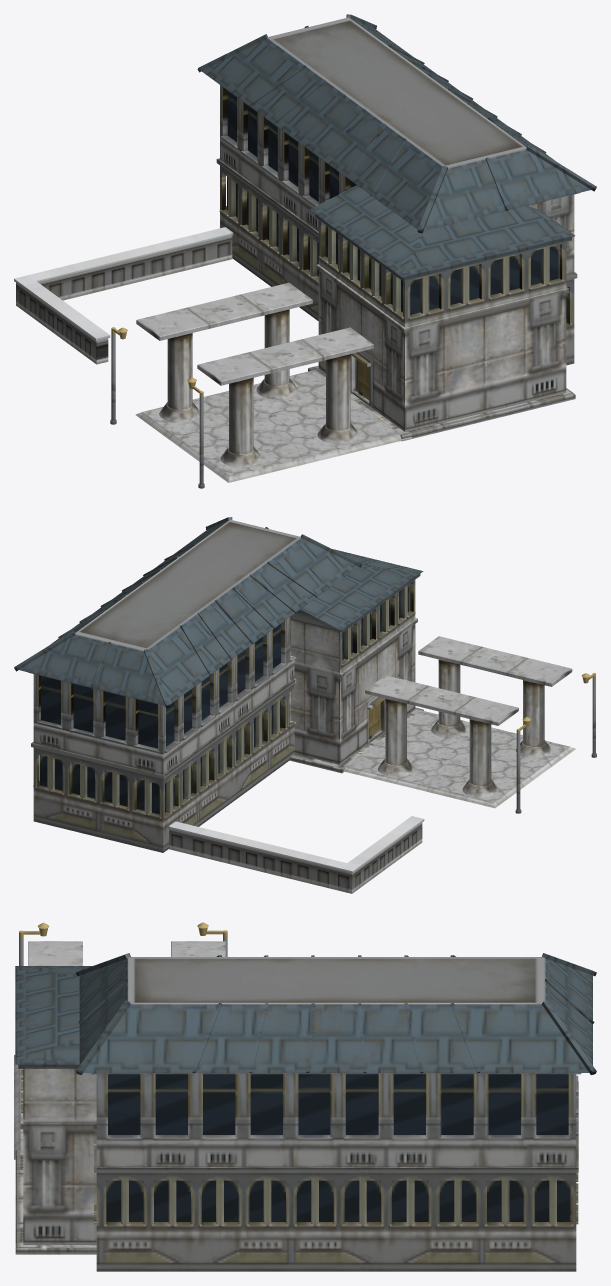
Rendered from s_gov2_cad.glb.
The picture shows the model from 3 angles, top to bottom: view 1: azimuth 30°, elevation 25°; view 2: azimuth 150°, elevation 25°; view 3: azimuth 270°, elevation 25°; orthographic projection. The views are drawn at different scales.
Visible parts, largest first — view 1: S_Gov2a; view 2: S_Gov2a; view 3: S_Gov2a.
Part boxes in pixels (x1=…): S_Gov2a: x1=14, y1=14, x2=596, y2=488; S_Gov2a: x1=14, y1=517, x2=596, y2=893; S_Gov2a: x1=14, y1=922, x2=596, y2=1271.
Bounding box in the file's own units: 21.91 × 10.74 × 22.33.
1 material, 1 textured.
